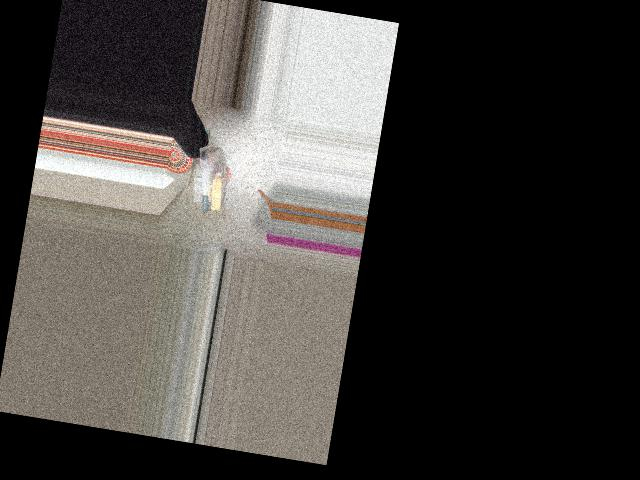cheese: (187, 140, 233, 214)
